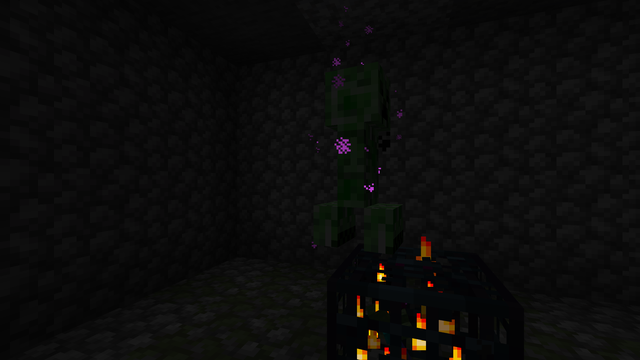creepers: (320, 50, 393, 254)
